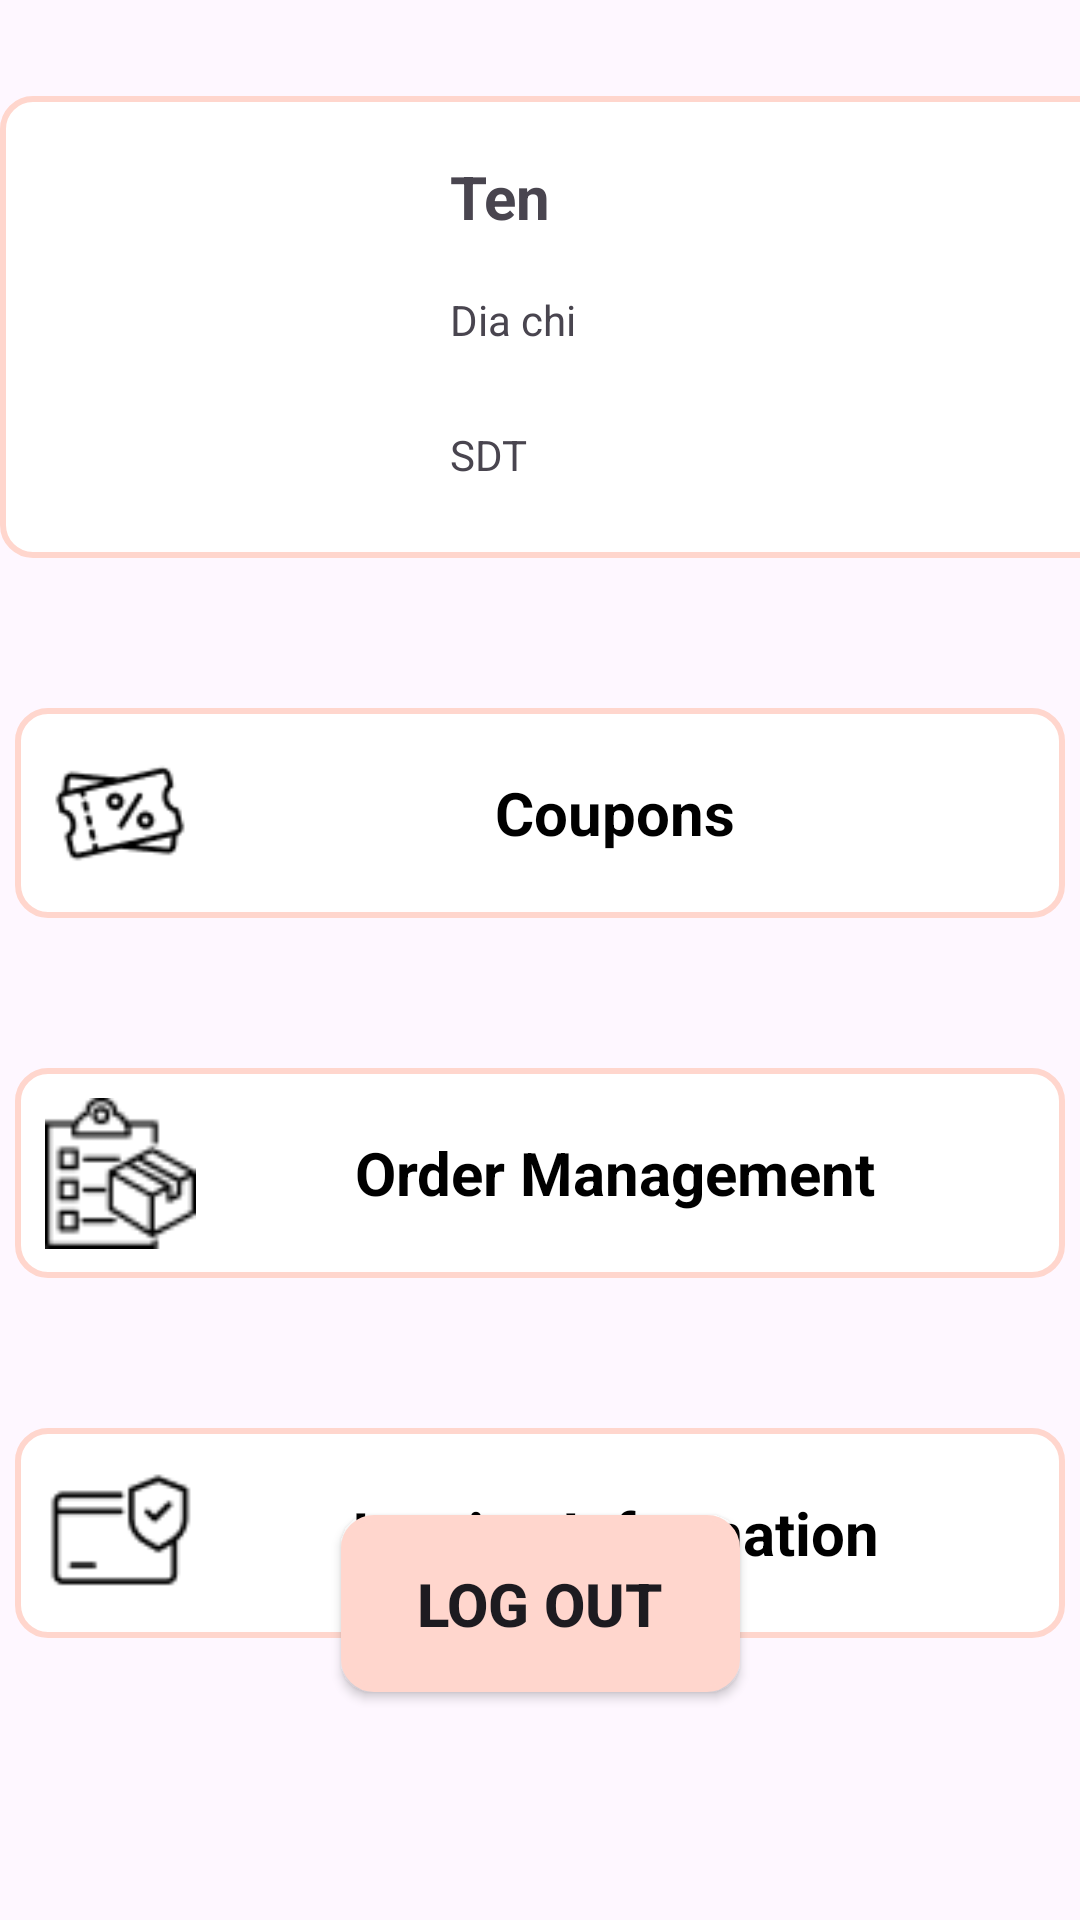

Screen size 1080×1920. Icon name, then its box in pixels as (x1=x1, y1=y1, x2=x2, y2=y2):
payment: (x1=51, y1=1474, x2=190, y2=1586)
promo code: (x1=55, y1=767, x2=185, y2=861)
